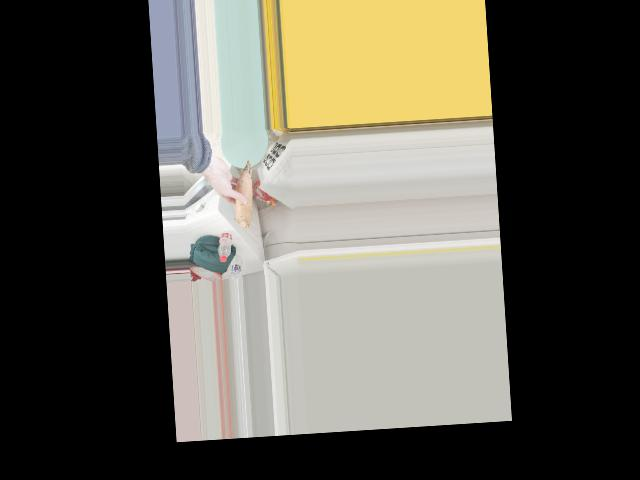sweet_potato: (231, 163, 254, 228)
